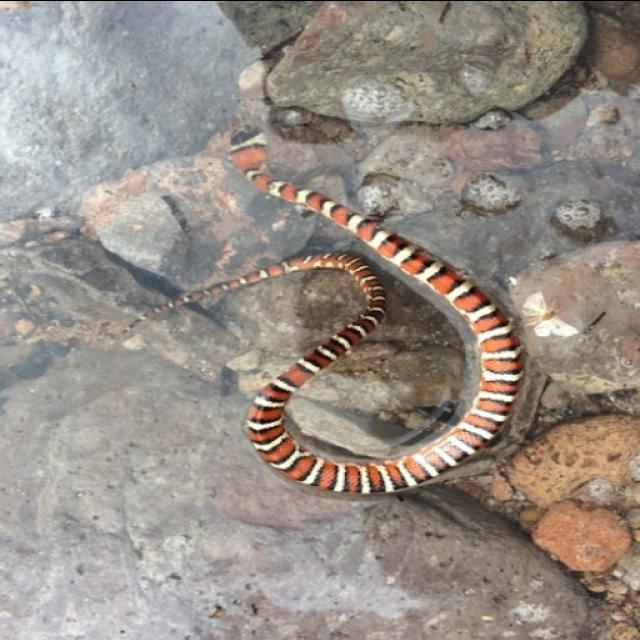snake: (196, 98, 532, 506)
